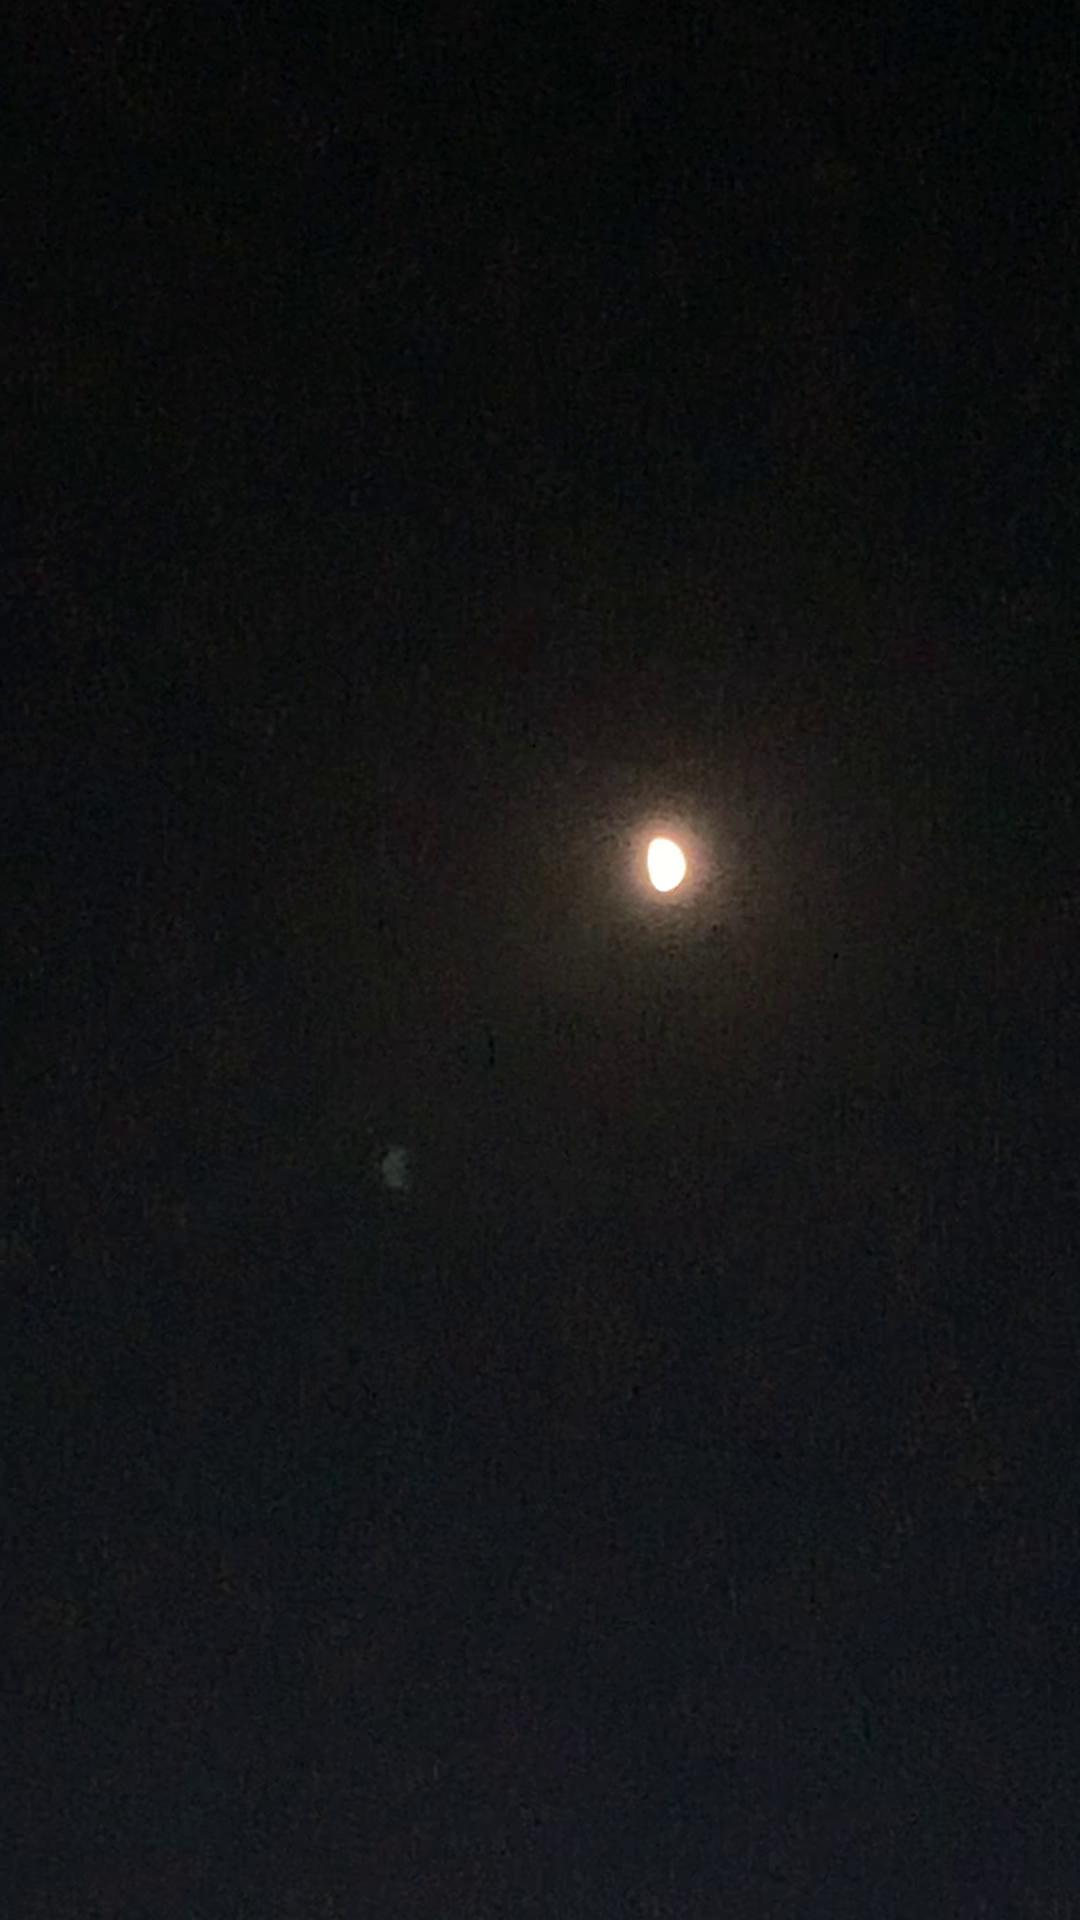moon: (613, 802, 705, 899)
